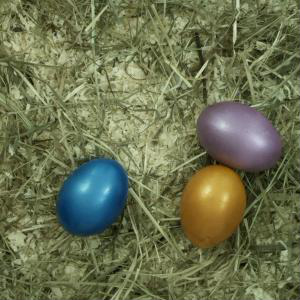egg: (197, 101, 285, 173), (179, 164, 247, 250), (57, 157, 129, 237)
